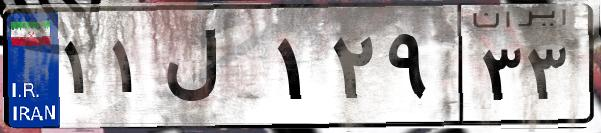1: (270, 28, 330, 110), (57, 26, 110, 100), (110, 28, 158, 98)
2: (330, 28, 385, 110)
3: (475, 38, 525, 113), (525, 38, 570, 115)
9: (385, 28, 445, 110)
ل: (158, 20, 270, 120)
